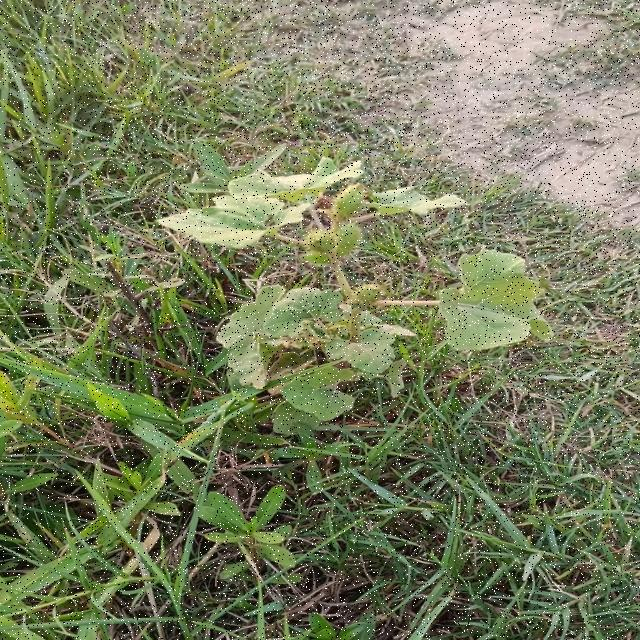weed: (159, 157, 551, 437)
